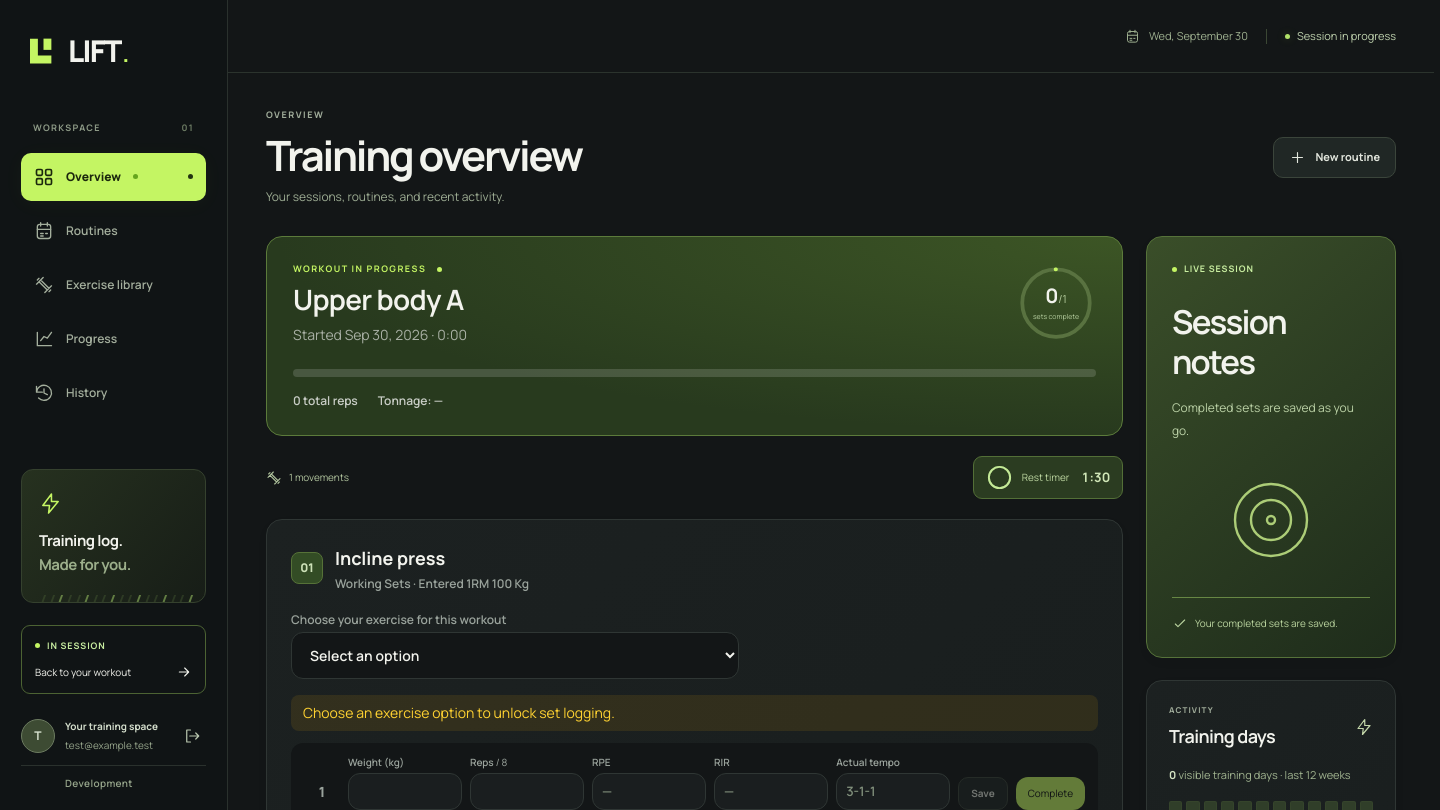
Test: Training studio › unlocks set logging only after choosing the actual movement
Expected: the heading "Training overview" is shown, top-left (266, 131), bottom-right (582, 179)
Expected: the number field labelled "Weight (kg)" is disabled, top-left (348, 773), bottom-right (462, 809)
Select "Machine incline press" in the dropdown labelled "Choose your exercise for this workout". click: (515, 656)
box: top-left (291, 632), bottom-right (739, 679)
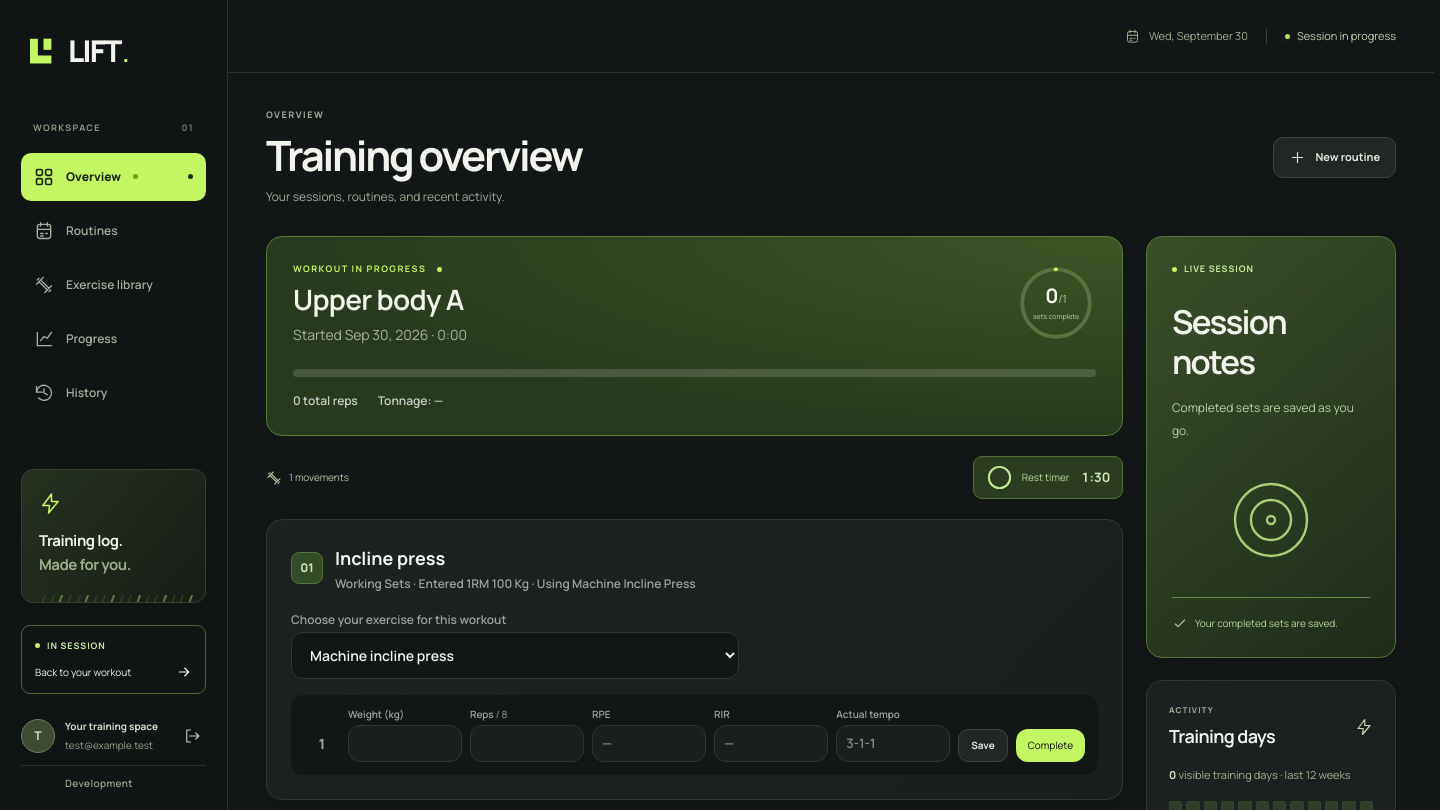
Result: the number field labelled "Weight (kg)" is enabled at top-left (348, 725), bottom-right (462, 762)
